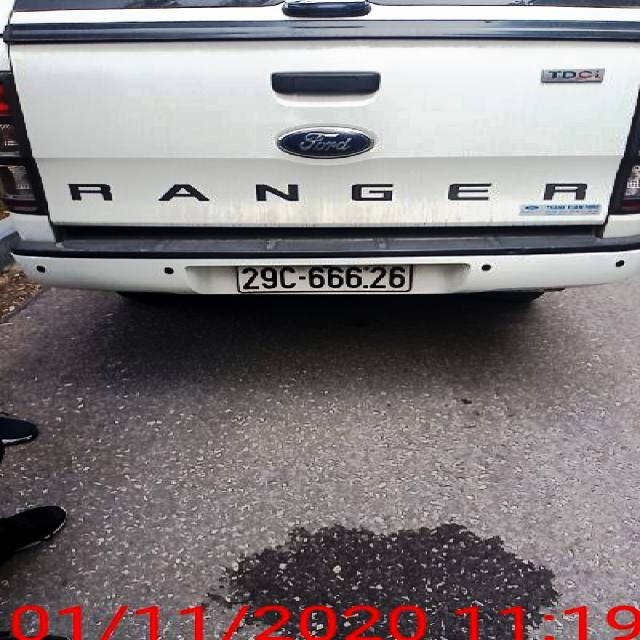license_plate: (236, 264, 418, 297)
